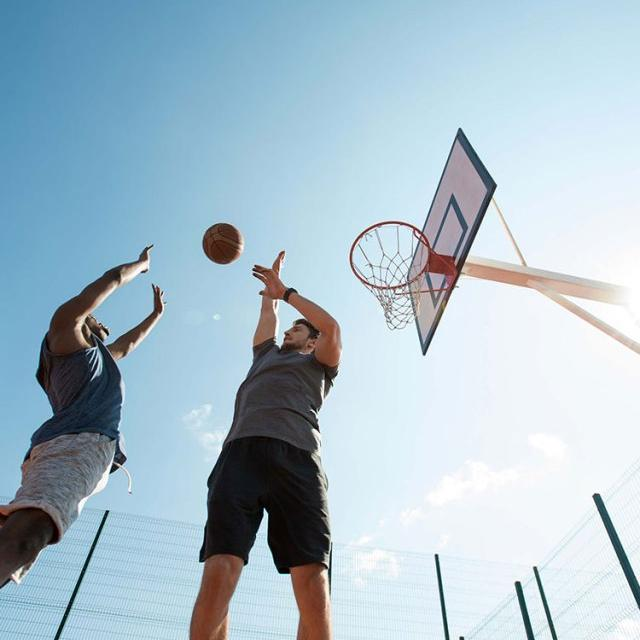basketball: (203, 224, 243, 262)
hoop: (349, 220, 429, 328)
